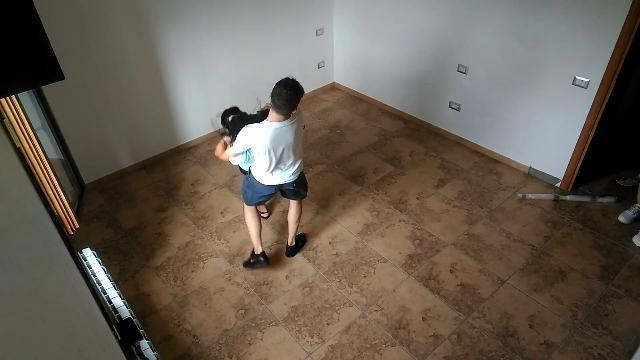violence: (212, 74, 312, 272)
